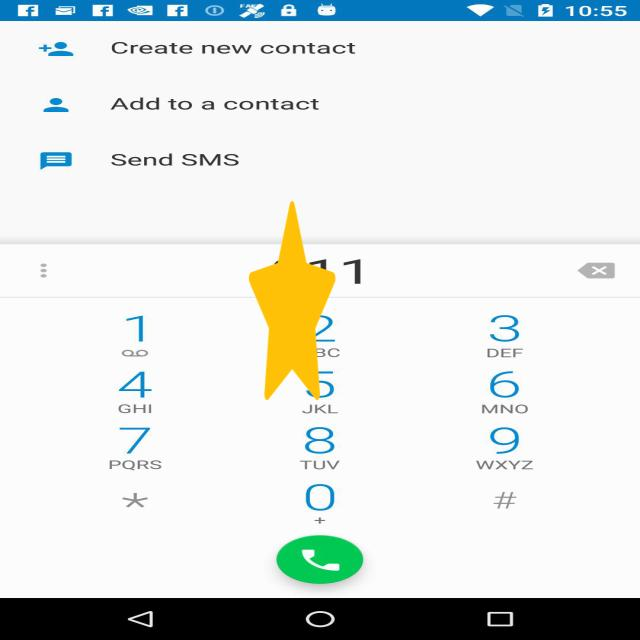forced continuity: (249, 201, 335, 400)
